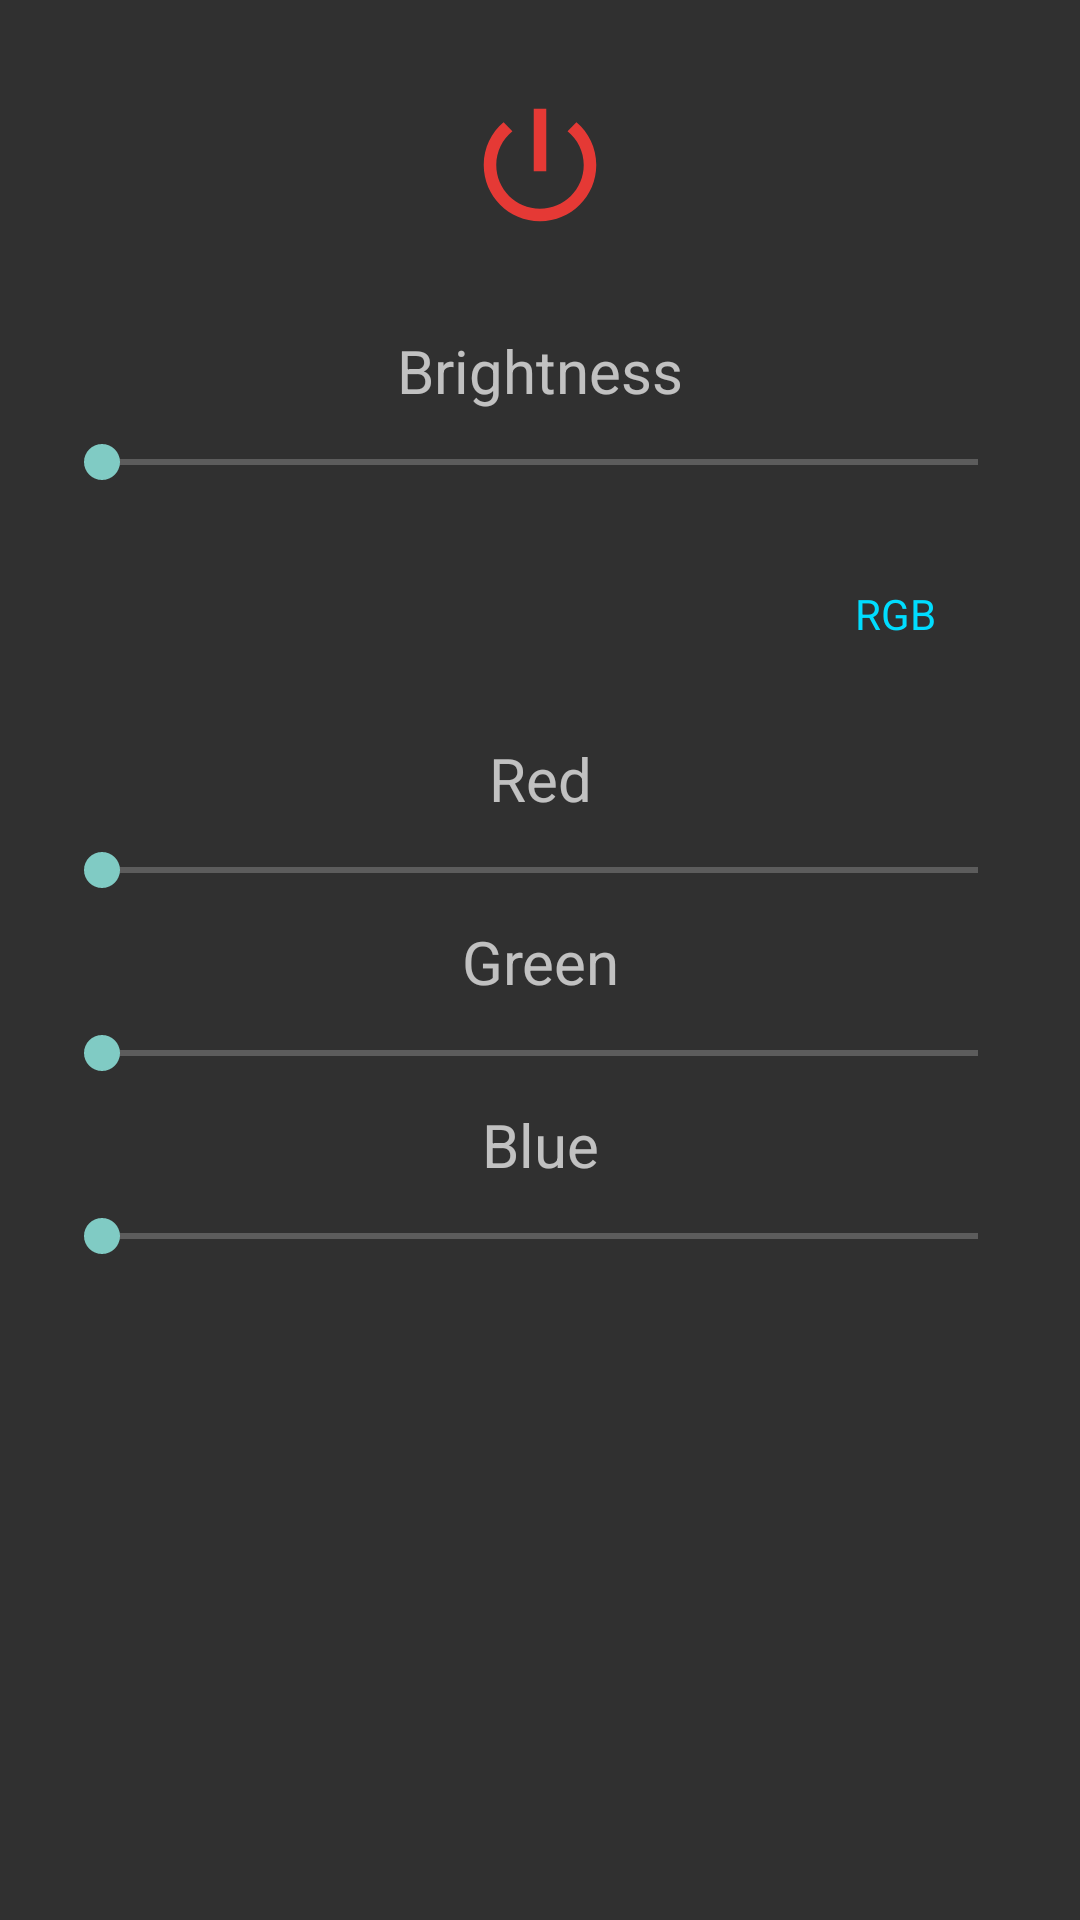

Screen size 1080x1920. Icon name, then its box in pixels as box=[x1, y1, x2, y2]:
power: box=[483, 108, 597, 222]
